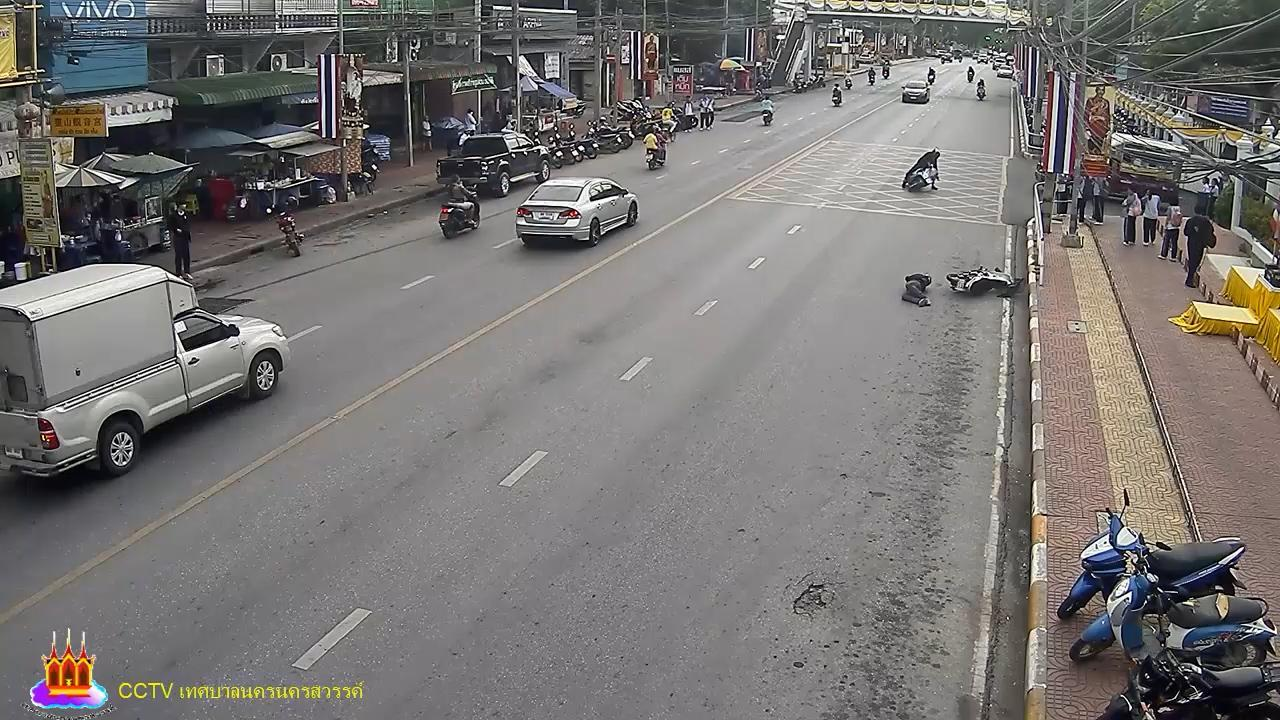accident: (900, 269, 935, 308)
